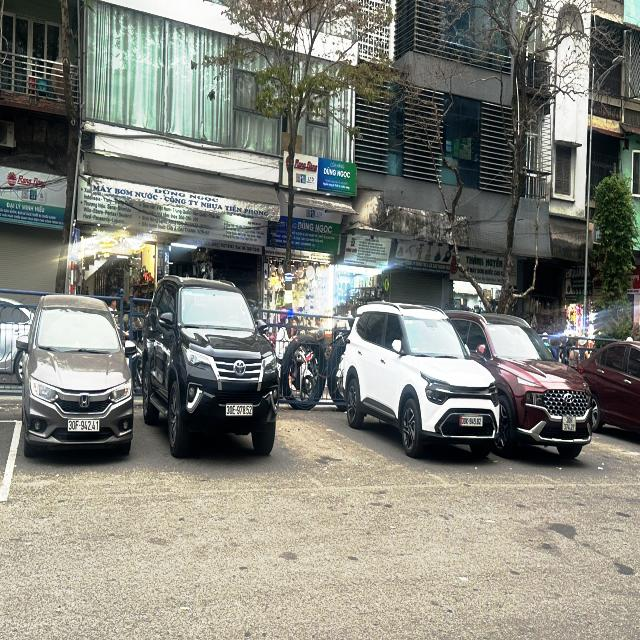license_plate: (68, 419, 101, 434), (226, 403, 254, 419), (459, 416, 485, 428), (563, 415, 578, 433)
